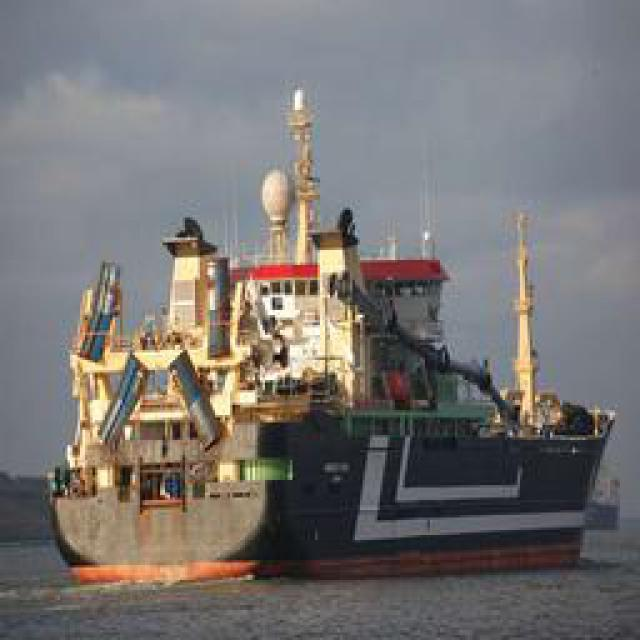Ship: (38, 80, 613, 580)
